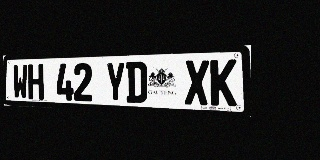2: (74, 63, 92, 101)
4: (56, 63, 74, 101)
D: (126, 61, 147, 103)
H: (28, 64, 44, 100)
K: (210, 59, 237, 106)
W: (13, 64, 28, 99)
X: (185, 60, 209, 105)
Y: (105, 62, 125, 102)
